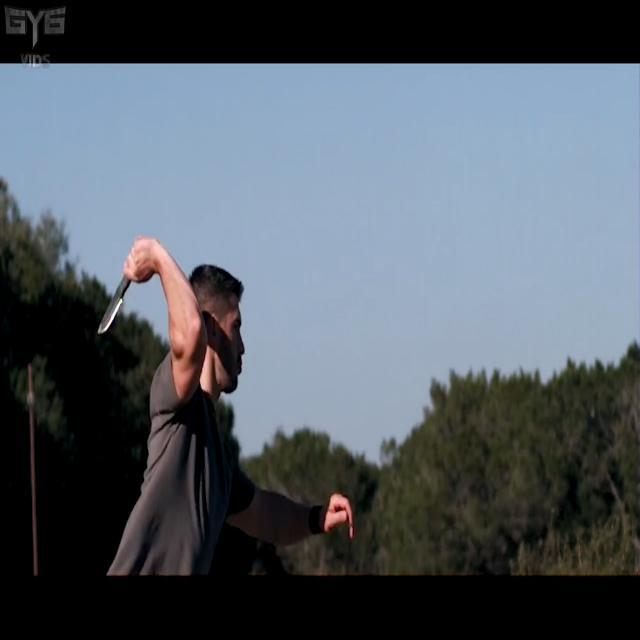Knife: (93, 227, 159, 343)
